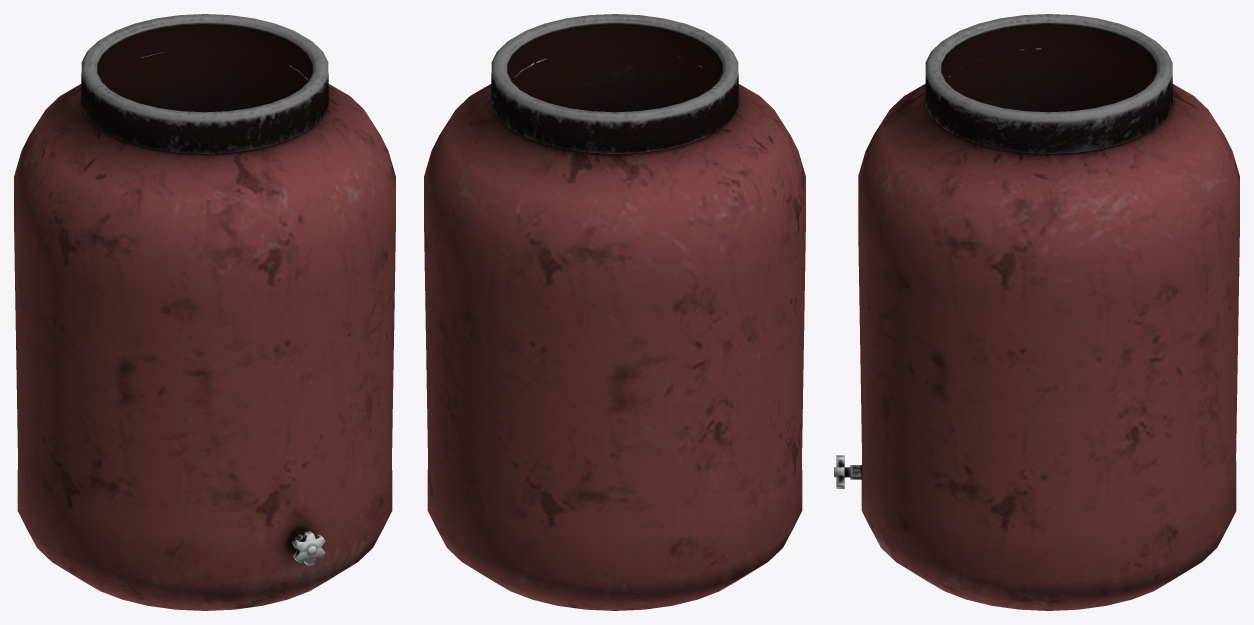
The model's file is SM_FAR_MilkBarrel_04.fbx.
The picture shows the model from 3 angles, left to right: view 1: azimuth 30°, elevation 25°; view 2: azimuth 150°, elevation 25°; view 3: azimuth 270°, elevation 25°; orthographic projection.
Parts seen in each view (by area): view 1: SM_FAR_MilkBarrel_04.mo; view 2: SM_FAR_MilkBarrel_04.mo; view 3: SM_FAR_MilkBarrel_04.mo.
Part boxes in pixels (bbox=[...]): SM_FAR_MilkBarrel_04.mo: bbox=[14, 14, 395, 610]; SM_FAR_MilkBarrel_04.mo: bbox=[424, 14, 805, 610]; SM_FAR_MilkBarrel_04.mo: bbox=[834, 14, 1239, 610].
Size of the model in its own units: 98.15 by 137 by 104.
